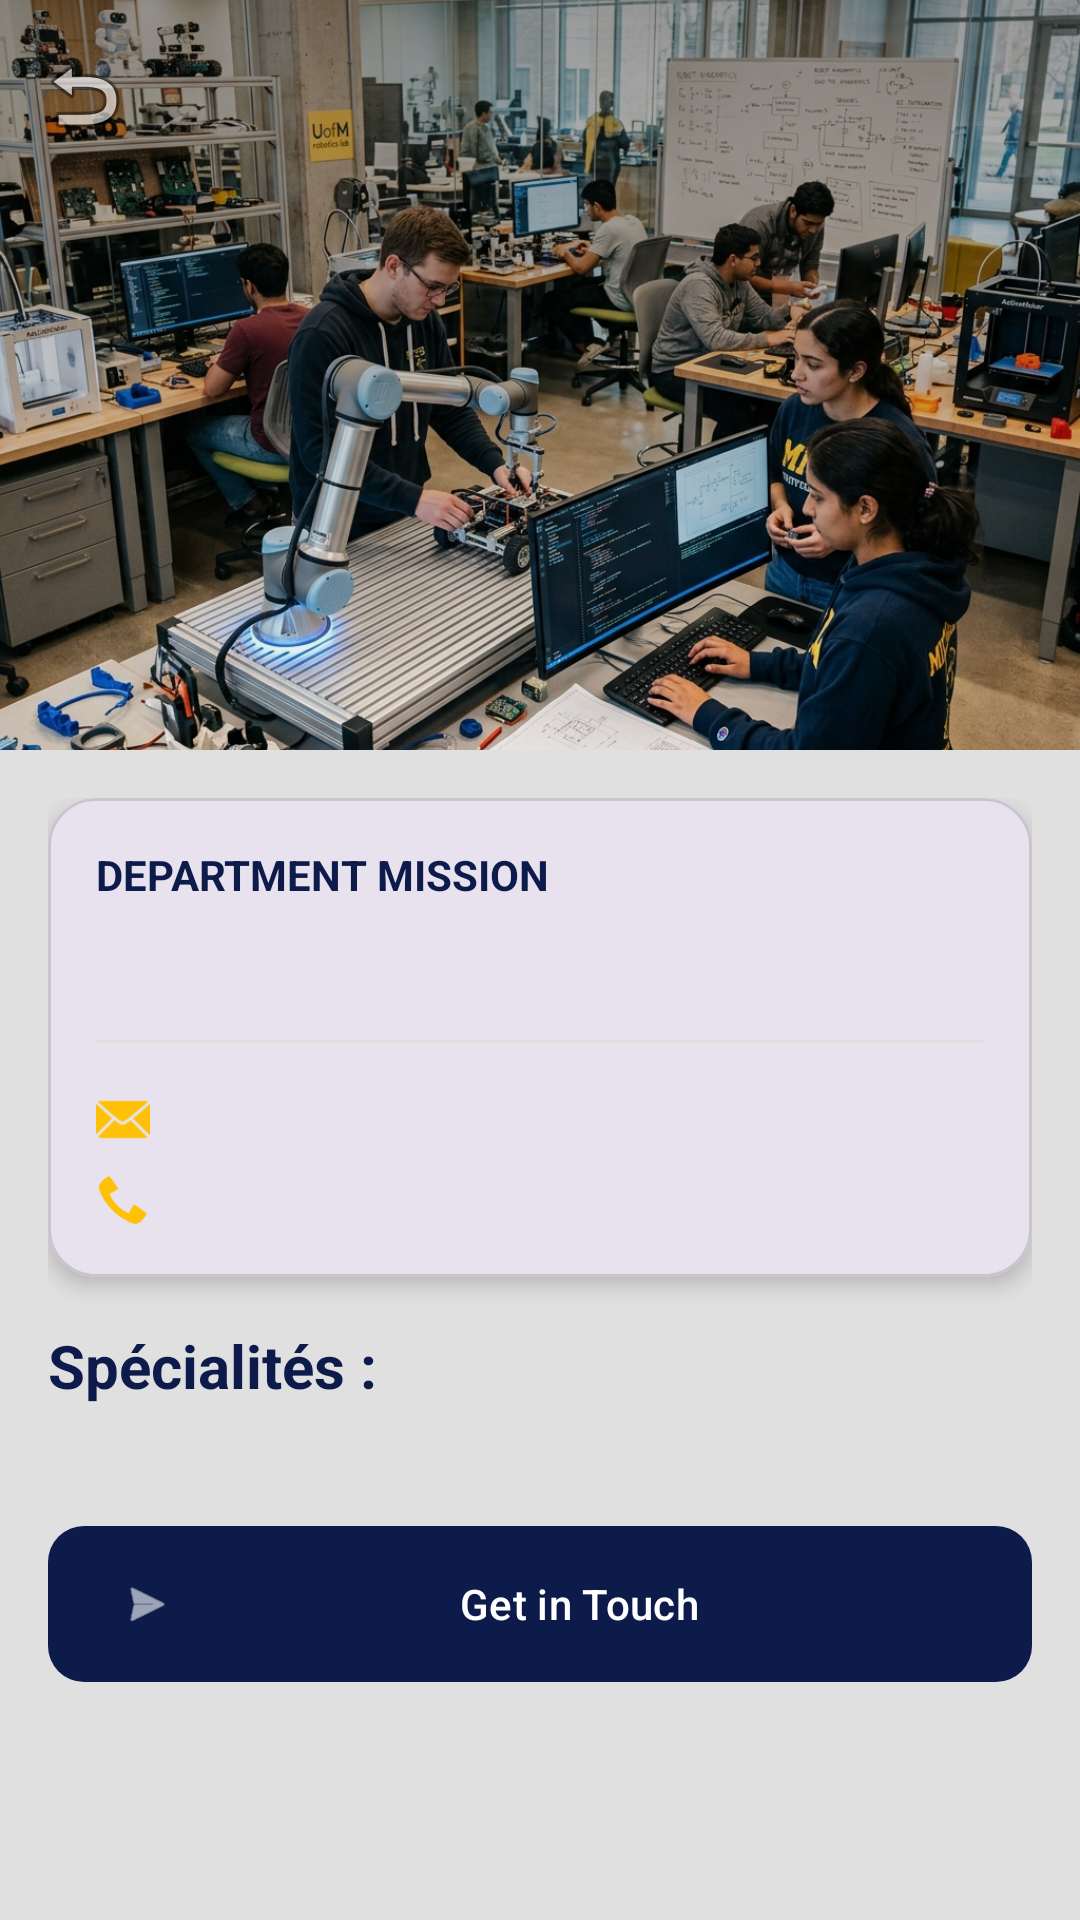

Icon bounding boxes for this 1080x1920 phone screenshot, format (x1, y1, x2, y2):
email: (96, 1100, 150, 1139)
phone call: (99, 1176, 147, 1224)
